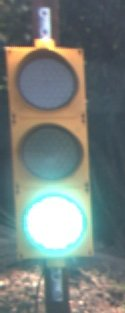Green: (4, 29, 96, 272)
